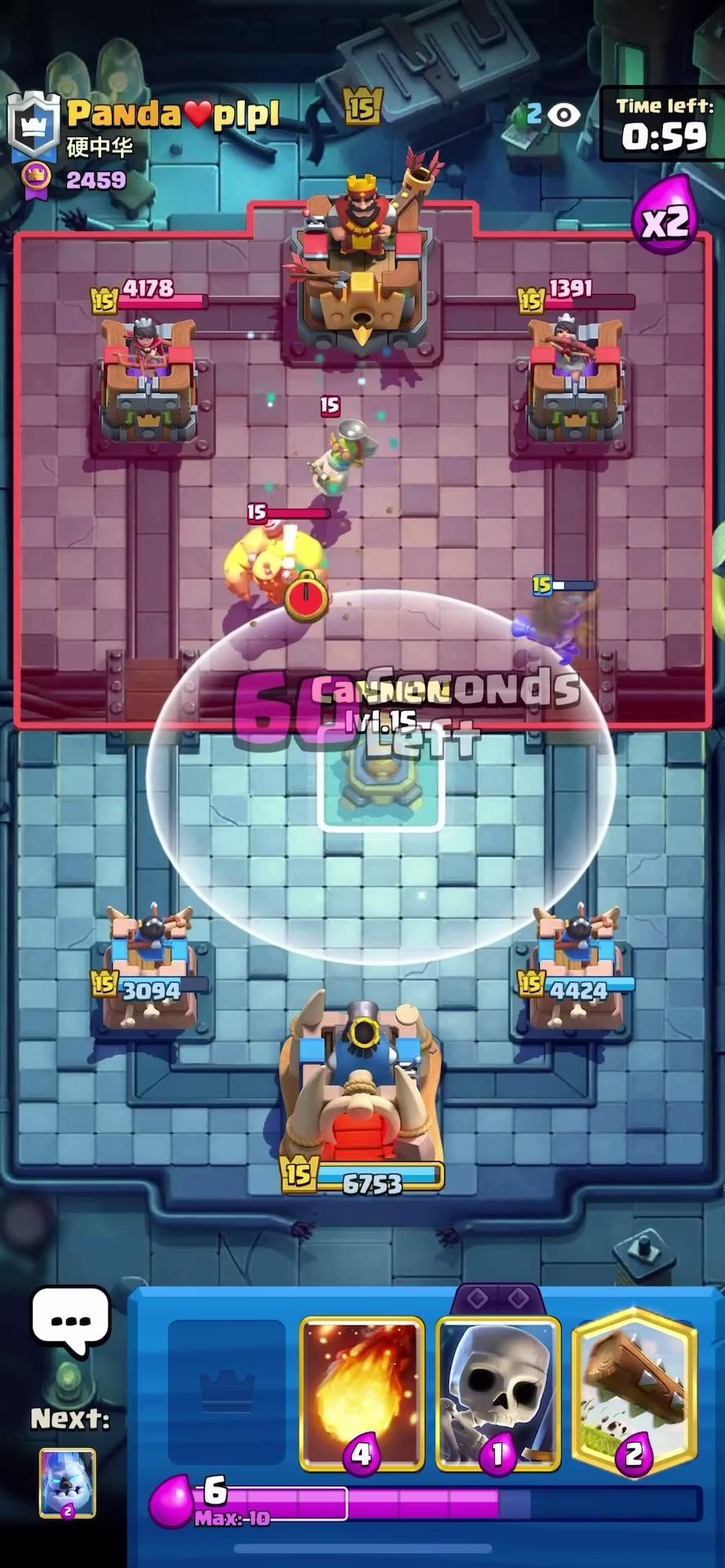musketeer: (502, 578, 606, 668)
